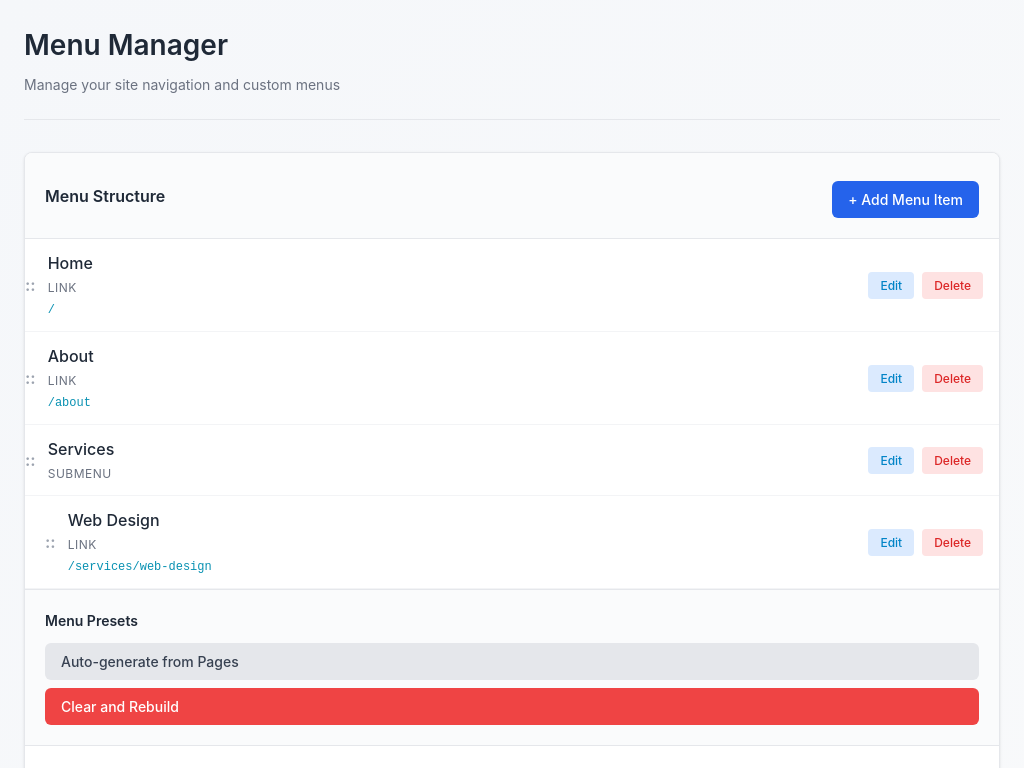
it: MenuManager › page selector shows all available pages
Click the button "+ Add Menu Item" at (906, 200), box [832, 181, 979, 218]
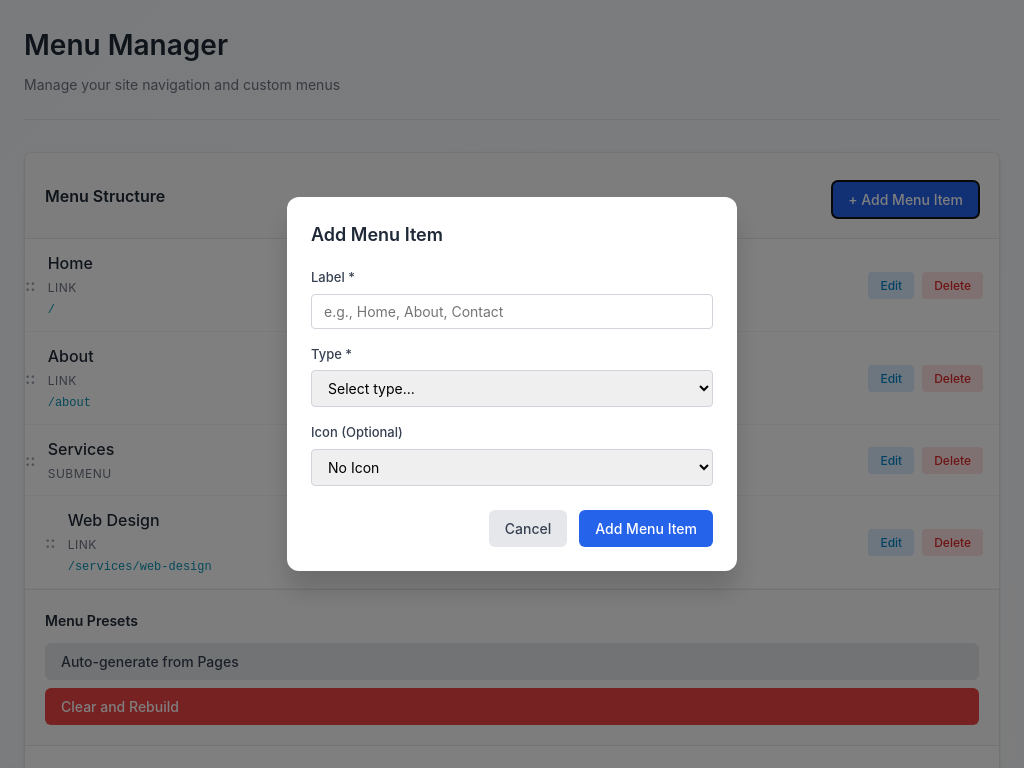
Select "Link to Page" in the dropdown labelled "Type *" at (512, 389), box [311, 370, 713, 407]
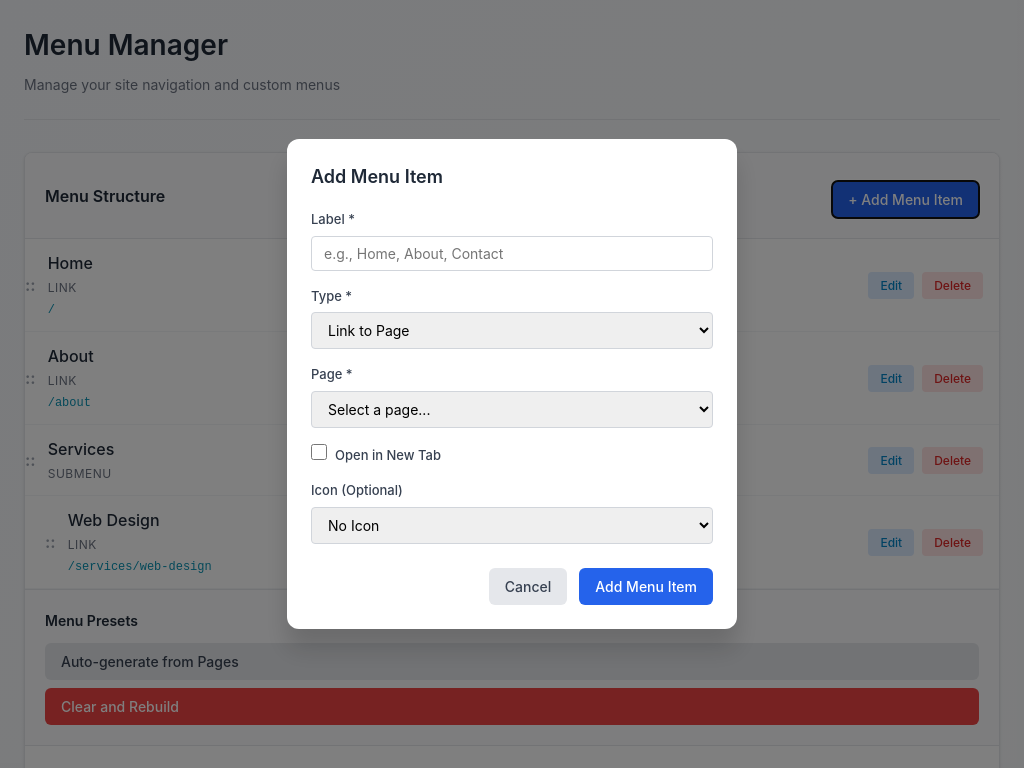
expect the dropdown labelled "Page *" is shown: met, box [311, 391, 713, 428]
